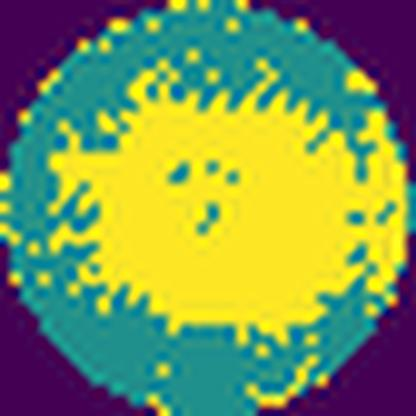Center: (55, 67, 362, 328)
